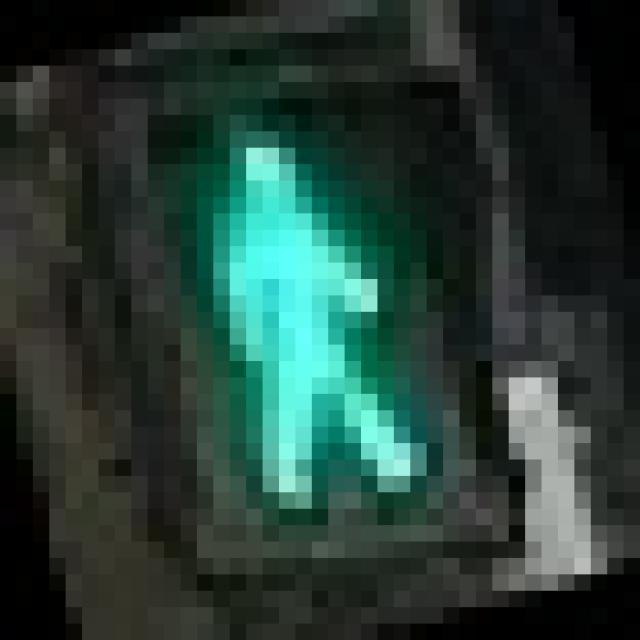geen-crossing: (66, 32, 526, 542)
